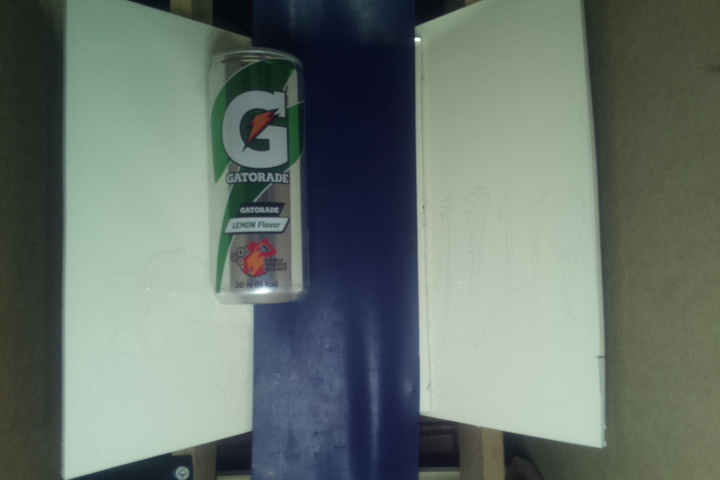can: (208, 48, 305, 305)
